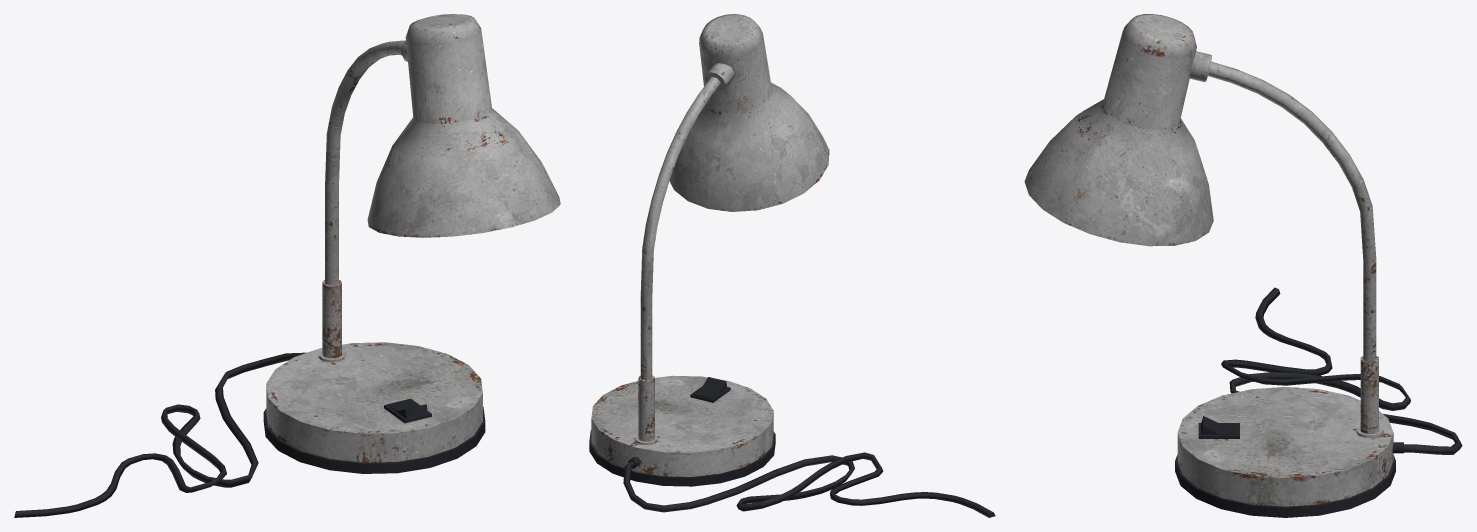
File: sm35_012_DeskLight.fbx
3 views of the same model, side by side, from view 1: azimuth 30°, elevation 25°; view 2: azimuth 150°, elevation 25°; view 3: azimuth 270°, elevation 25° (orthographic). The views are drawn at different scales.
Visible parts, largest first — view 1: LOD_1_Group_0_Sub_1__sm35_012_DeskLight01A_A_Mat; view 2: LOD_1_Group_0_Sub_1__sm35_012_DeskLight01A_A_Mat; view 3: LOD_1_Group_0_Sub_1__sm35_012_DeskLight01A_A_Mat.
Boxes of the visible parts, box(x1,y1,x2,y2) form: LOD_1_Group_0_Sub_1__sm35_012_DeskLight01A_A_Mat: box(14, 14, 560, 517); LOD_1_Group_0_Sub_1__sm35_012_DeskLight01A_A_Mat: box(589, 14, 995, 517); LOD_1_Group_0_Sub_1__sm35_012_DeskLight01A_A_Mat: box(1024, 14, 1462, 517).
Size of the model in its own units: 0.5477 by 0.515 by 0.4526.
